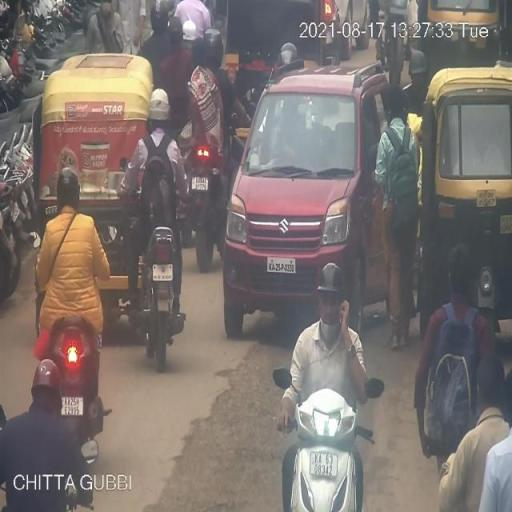using mobile: (339, 292, 350, 338)
